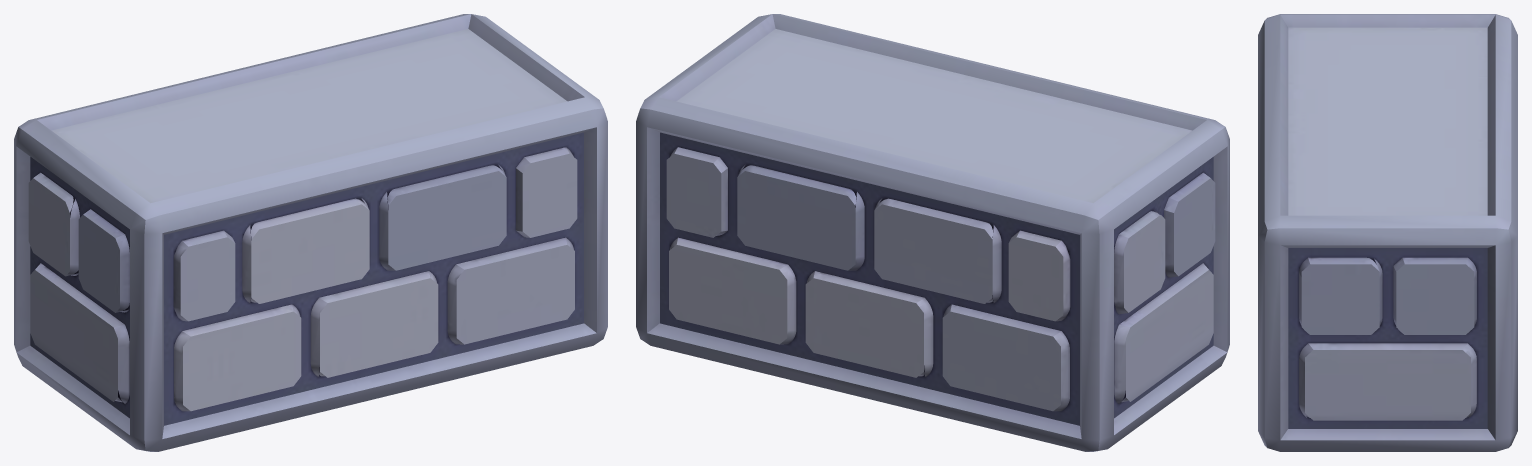
File: tas2.glb
3 views of the same model, side by side, from view 1: azimuth 30°, elevation 25°; view 2: azimuth 150°, elevation 25°; view 3: azimuth 270°, elevation 25° (orthographic). The views are drawn at different scales.
Visible parts, largest first — view 1: tas2; view 2: tas2; view 3: tas2.
Boxes of the visible parts, left/top/right/bottom form: tas2: left=14, top=14, right=607, bottom=451; tas2: left=636, top=14, right=1229, bottom=451; tas2: left=1258, top=14, right=1517, bottom=451.
Bounding box in the file's own units: 3.07 × 1.53 × 1.53.
1 material, 1 textured.
